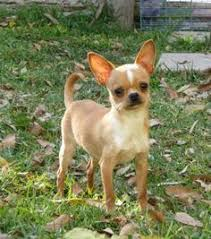chihuahua: (47, 35, 168, 229)
